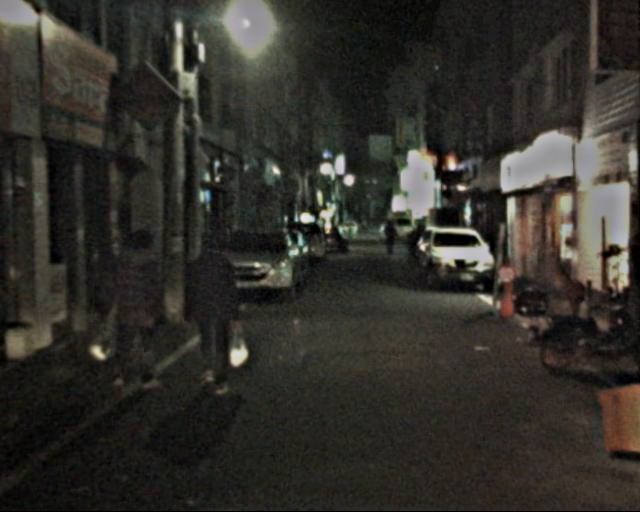person: (180, 229, 247, 398), (105, 230, 170, 389), (380, 218, 397, 260)
